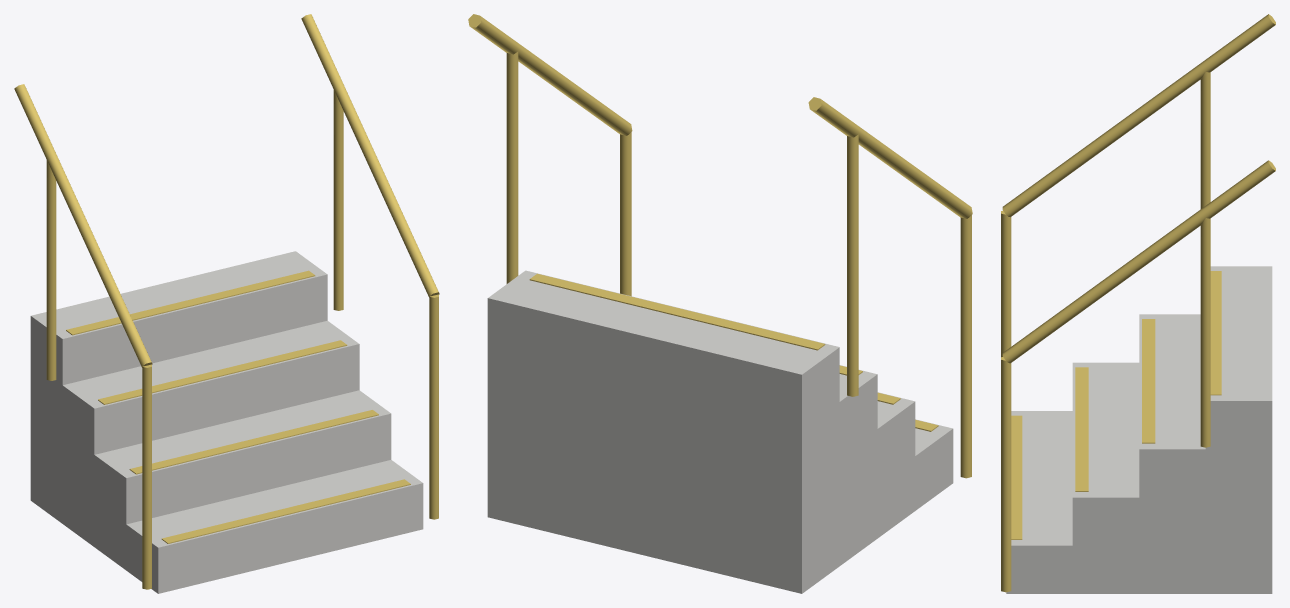
The model's file is steps_concrete.glb.
3 renders of one model, left to right at view 1: azimuth 30°, elevation 25°; view 2: azimuth 150°, elevation 25°; view 3: azimuth 270°, elevation 25°, orthographic. The views are drawn at different scales.
Parts seen in each view (by area): view 1: steps_concrete; view 2: steps_concrete; view 3: steps_concrete.
Boxes of the visible parts, x1,y1,x2,y2 form: steps_concrete: (14, 14, 439, 593); steps_concrete: (468, 14, 972, 593); steps_concrete: (1001, 14, 1275, 593).
Size of the model in its own units: 1.35 by 1.82 by 1.03.
